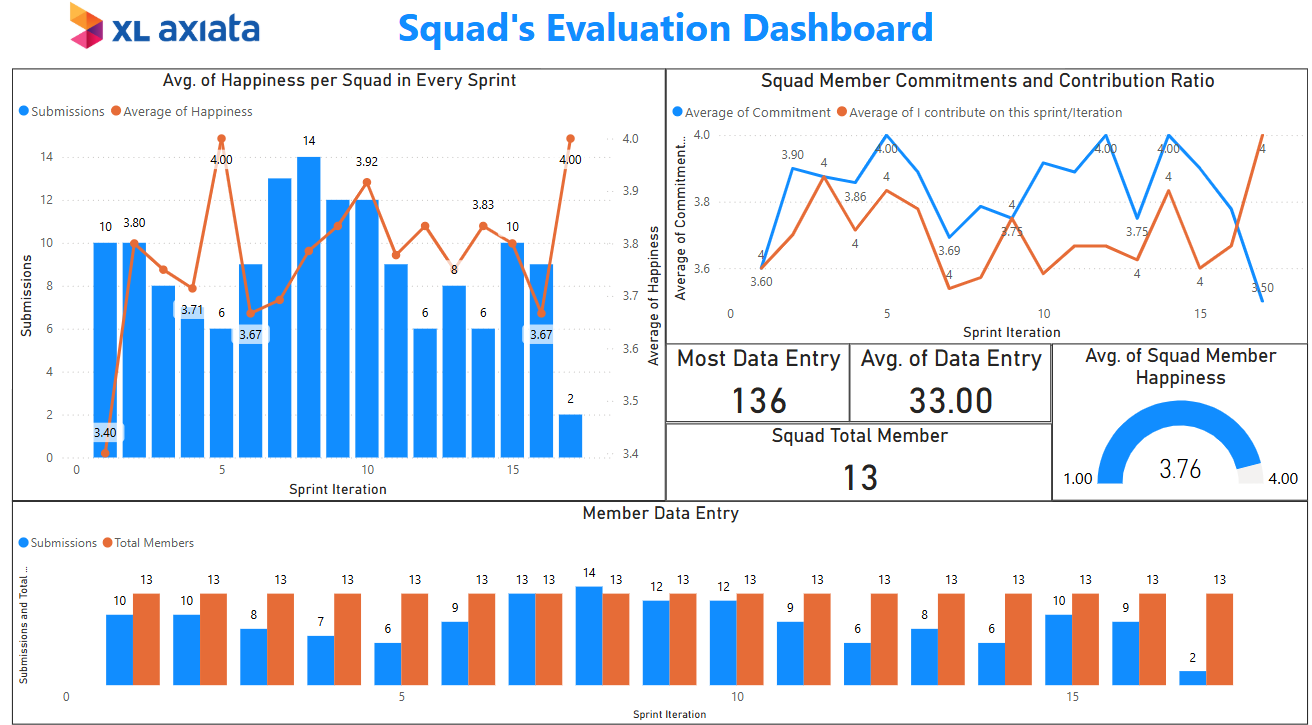

Layout of this report page (visuals, bound fields, positions):
{"tool":"powerbi","page":{"name":"Squad's Evaluation","canvas":[1280,720],"ordinal":3},"visuals":[{"type":"lineChart","title":"Squad Member Commitments and Contribution Ratio","fields":{"Category":["Form1.Sprint/Iteration # ?","Form1.Tribe - Squad"],"Y":["Avg(Form1.Commitment)","Avg(Form1.I contribute on this sprint/Iteration)"]},"box":[645.5,71.4,634.5,273.3],"z":0},{"type":"lineStackedColumnComboChart","title":"Avg. of Happiness per Squad in Every Sprint","fields":{"Category":["Form1.Sprint/Iteration # ?"],"Y":["CountNonNull(Main.Name)"],"Y2":["Avg(Form1.Happiness)"]},"box":[0,71.4,645.5,427.1],"z":1000},{"type":"textbox","box":[251.9,0,787.8,71],"z":2000},{"type":"gauge","title":"Avg. of Squad Member Happiness","fields":{"Y":["Avg(Form1.We are happy and satisfy in this sprint. )"],"MaxValue":["Max(Form1.We are happy and satisfy in this sprint. )1"]},"box":[1027.3,343.3,252.7,155.2],"z":3000},{"type":"clusteredColumnChart","title":"Member Data Entry","fields":{"Category":["Form1.Sprint/Iteration # ?"],"Y":["CountNonNull(Main.Name)","Sum(Table2.Members)"]},"box":[0,498.5,1280,221.1],"z":4000},{"type":"card","title":"Avg. of Data Entry","fields":{"Values":["Avg(Sheet2.Avg)"]},"box":[827.7,343.3,199.4,77.8],"z":5000},{"type":"card","title":"Most Data Entry","fields":{"Values":["Min(Sheet2.Most)"]},"box":[645.8,343.3,181.9,77.8],"z":6000},{"type":"card","title":"Squad Total Member","fields":{"Values":["Sum(Table2.Members)"]},"box":[645.5,421.6,381.8,76.9],"z":7000},{"type":"image","box":[0,0,299.5,70.1],"z":9000}]}

Visuals, with their boxes in screenshot pixels (x1, y1, x2, y2), scaled from the page's 1280x720 canvas onto the 1312x725 screenshot:
"Squad Member Commitments and Contribution Ratio" lineChart: (x1=662, y1=72, x2=1311, y2=347)
"Avg. of Happiness per Squad in Every Sprint" lineStackedColumnComboChart: (x1=0, y1=72, x2=662, y2=502)
textbox: (x1=258, y1=0, x2=1066, y2=71)
"Avg. of Squad Member Happiness" gauge: (x1=1053, y1=346, x2=1311, y2=502)
"Member Data Entry" clusteredColumnChart: (x1=0, y1=502, x2=1311, y2=724)
"Avg. of Data Entry" card: (x1=848, y1=346, x2=1053, y2=424)
"Most Data Entry" card: (x1=662, y1=346, x2=848, y2=424)
"Squad Total Member" card: (x1=662, y1=425, x2=1053, y2=502)
image: (x1=0, y1=0, x2=307, y2=71)
